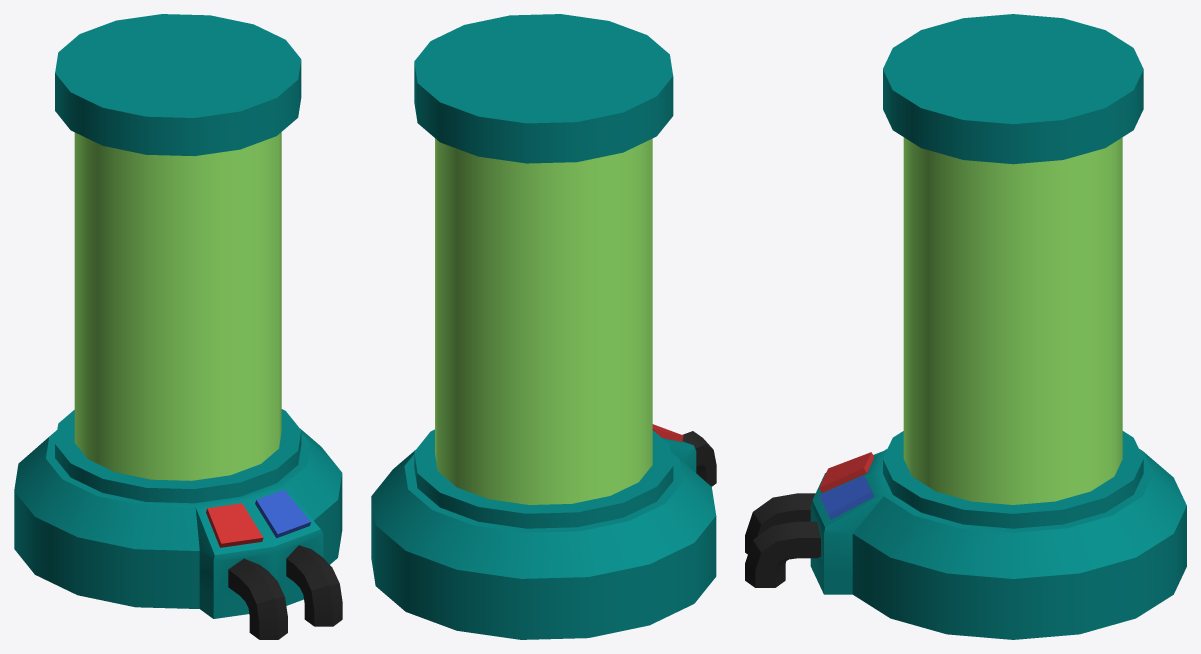
Rendered from Liquid Machine.fbx.
3 views of the same model, side by side, from view 1: azimuth 30°, elevation 25°; view 2: azimuth 150°, elevation 25°; view 3: azimuth 270°, elevation 25° (orthographic). The views are drawn at different scales.
Parts seen in each view (by area): view 1: Liquid Machine; view 2: Liquid Machine; view 3: Liquid Machine.
Part boxes in pixels (box(x1,y1,x2,y2)): Liquid Machine: box(14, 14, 342, 639); Liquid Machine: box(371, 14, 716, 639); Liquid Machine: box(745, 14, 1186, 639).
Size of the model in its own units: 200 by 316 by 254.
